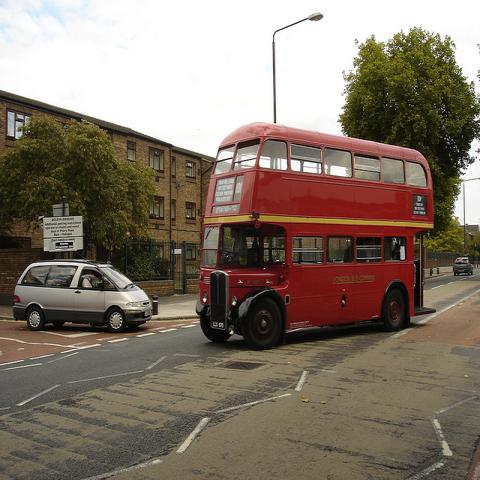bus: (198, 127, 438, 349)
car: (12, 263, 154, 328), (453, 256, 474, 276)
